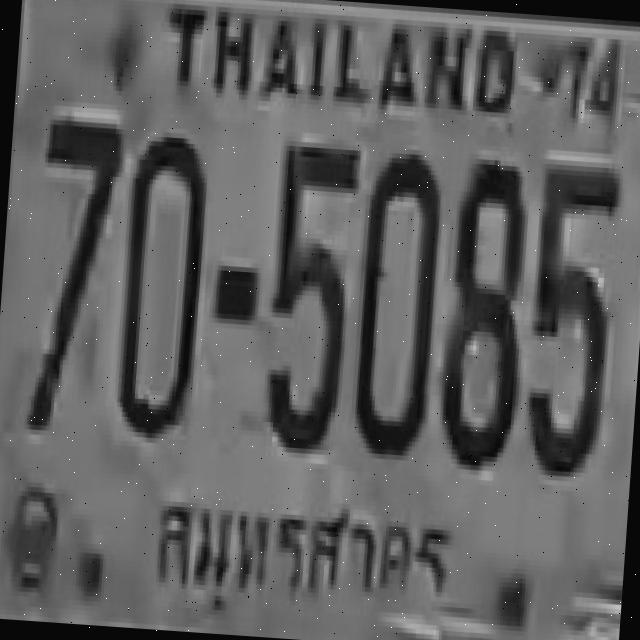0: (110, 127, 208, 433), (347, 146, 442, 456)
5: (519, 158, 620, 474), (260, 138, 358, 452)
7: (22, 114, 120, 429)
8: (434, 155, 530, 465)
SamutSakhon: (146, 485, 464, 634)
